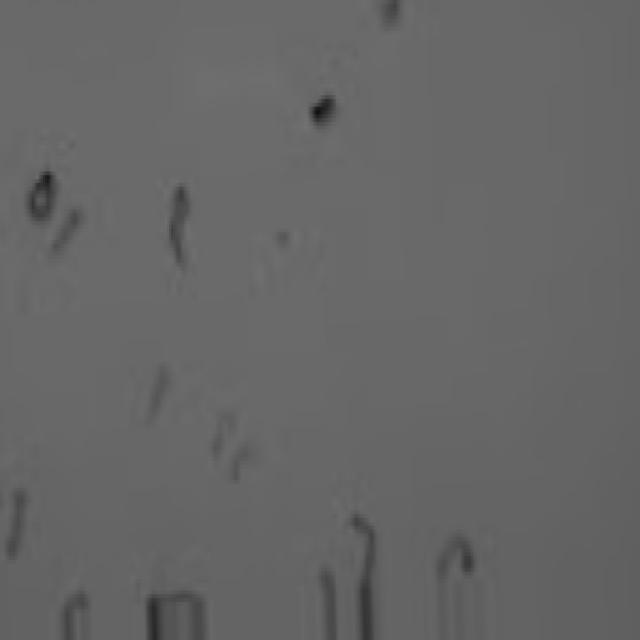larvas: (436, 535, 473, 578), (6, 486, 23, 562), (55, 211, 82, 254), (30, 172, 54, 214), (355, 517, 373, 571), (212, 414, 235, 452), (167, 223, 185, 268), (228, 444, 247, 482), (172, 182, 187, 225)
